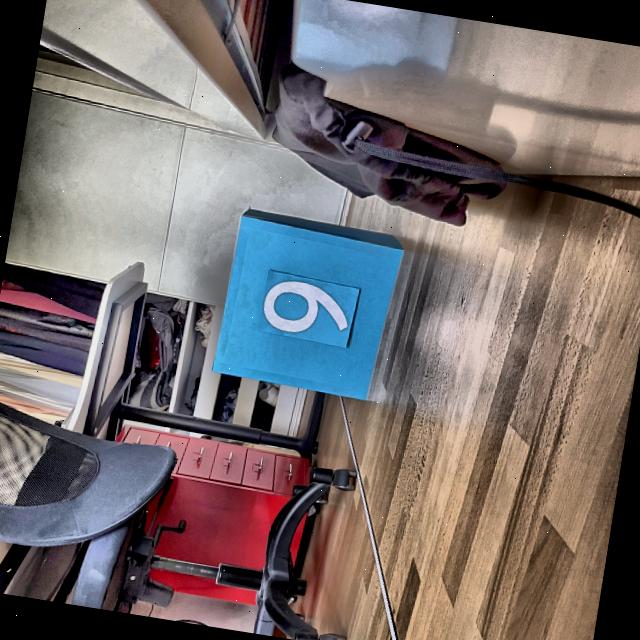blue box: (211, 200, 409, 406)
nine: (256, 273, 356, 343)
